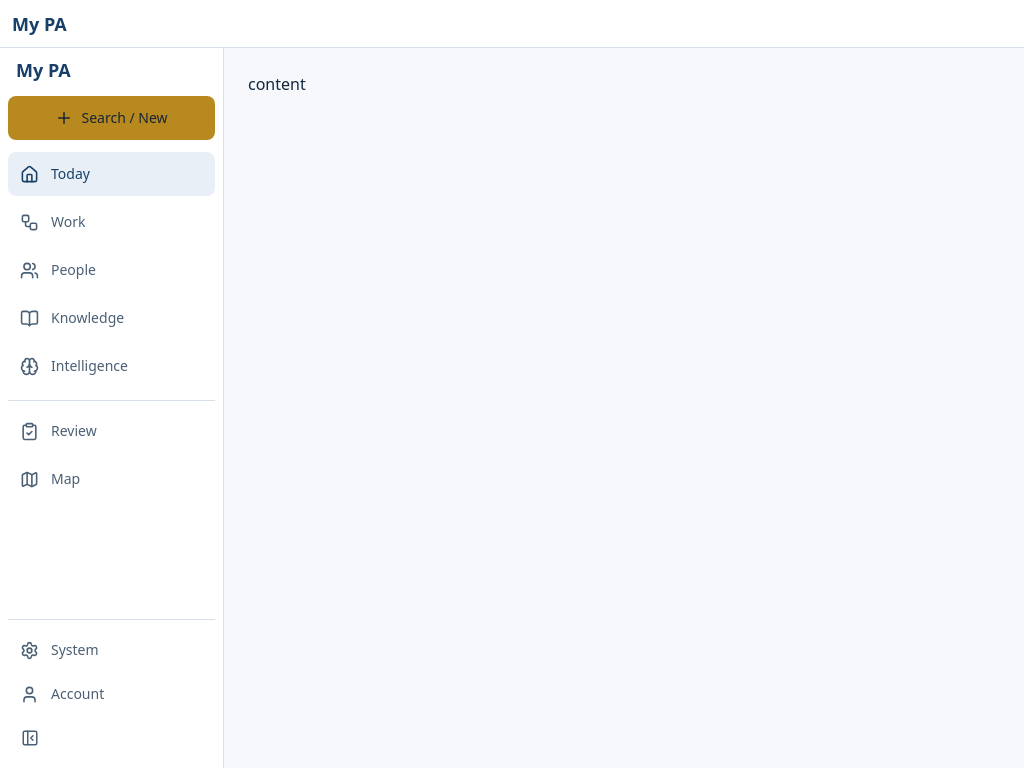
it: the unified launcher New menu › offers exactly Create Task, Quick Note and Conversation Log
Click the button with test id "launcher-button-desktop". click: {"x": 112, "y": 118}
box: [8,96,215,140]
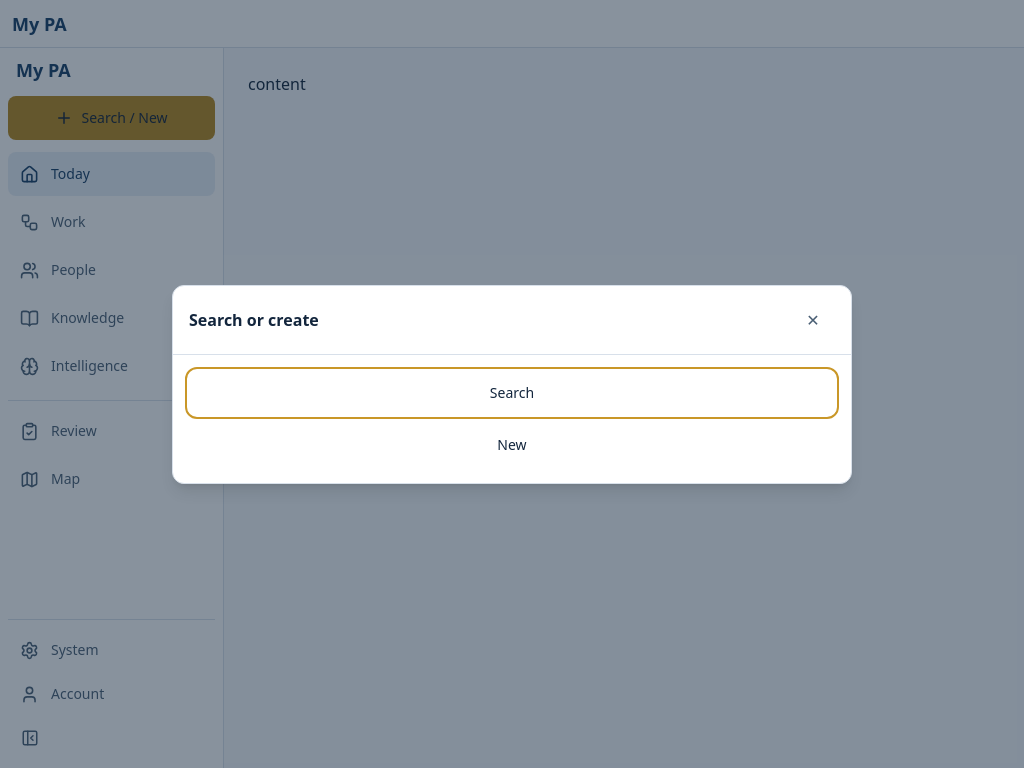
Click the button "New". click: {"x": 512, "y": 444}
box: [189,422,835,466]
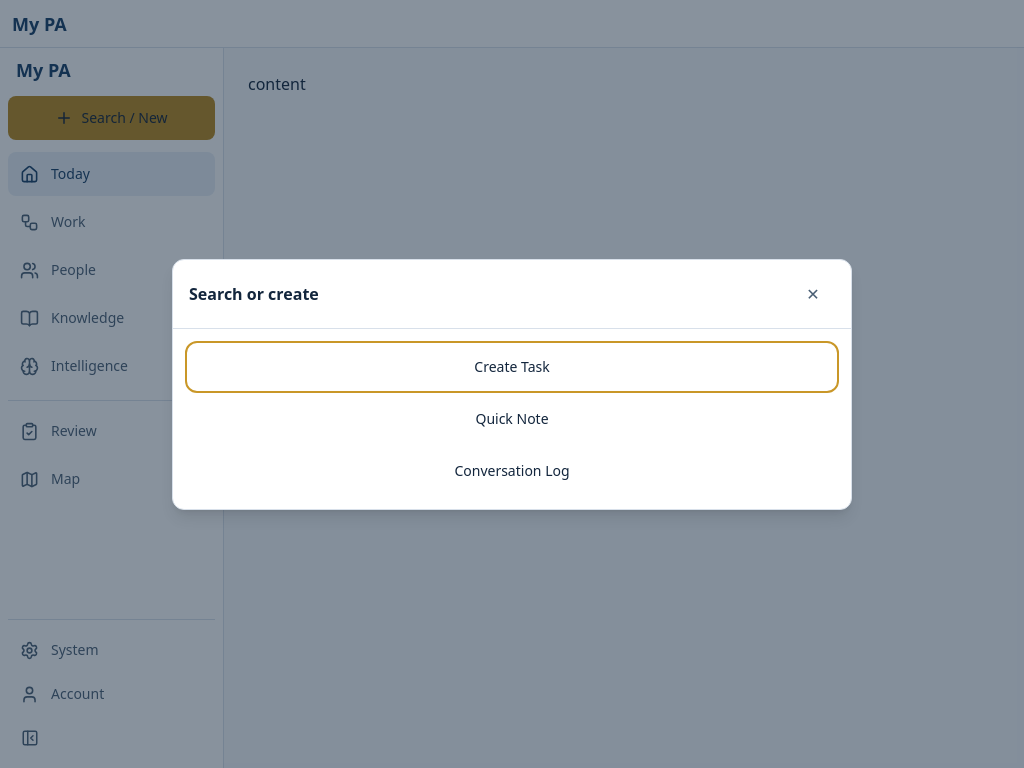
Now the buttons read "Create Task", "Quick Note", "Conversation Log", in this order, box [189,344,835,388]; [189,396,835,440]; [189,448,835,492]
